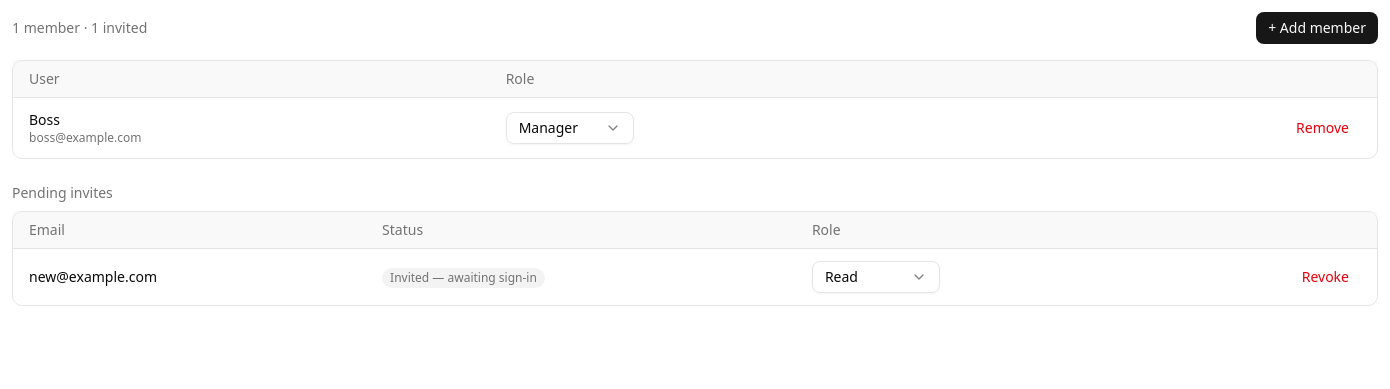
Test: reloads the members when a re-invite finds the invite already accepted
The image size is (1390, 389).
Click the button with test id "add-member-button": (1317, 28) [1256, 12, 1378, 44]
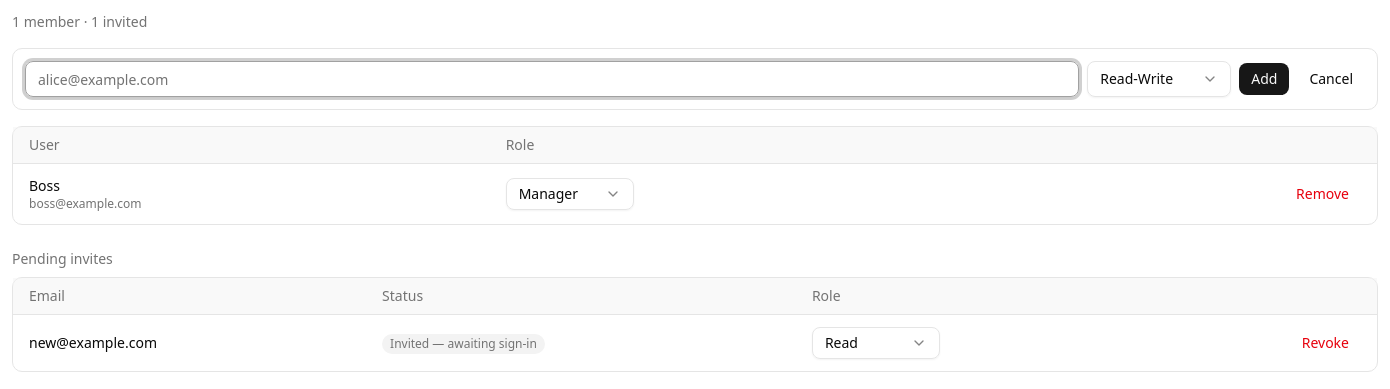
In the field with test id "add-member-email": (552, 79) [25, 61, 1079, 97], type "new@example.com"
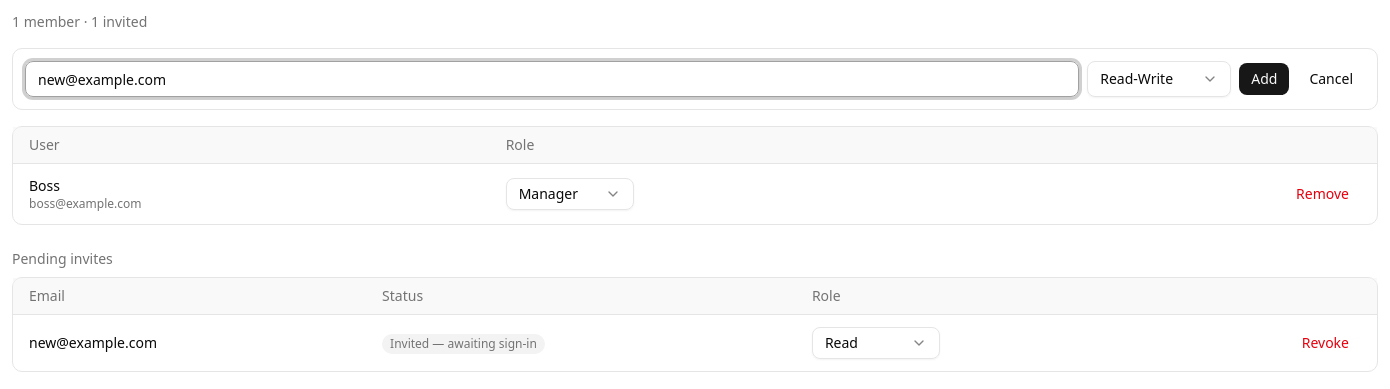
Click the button with test id "add-member-submit": (1264, 79) [1239, 63, 1289, 95]
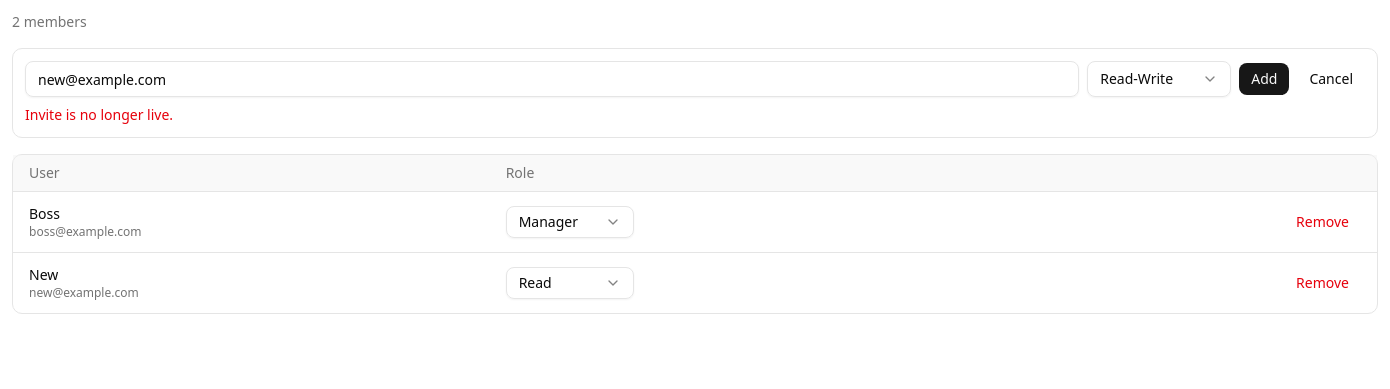
Expected: the row with test id "member-row-m-2" is shown, [13, 252, 1377, 313]
Expected: the text with test id "add-member-error" reads "Invite is no longer live.", [25, 105, 173, 124]
